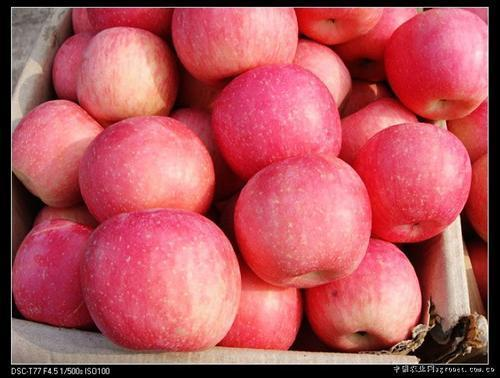apple: (80, 209, 240, 352), (233, 159, 372, 287), (353, 123, 472, 246), (209, 63, 339, 175), (80, 114, 216, 219), (302, 239, 424, 355), (383, 7, 489, 123), (72, 24, 177, 124), (13, 99, 105, 212), (170, 7, 299, 85), (16, 220, 98, 331), (223, 262, 302, 351), (287, 38, 353, 112)
